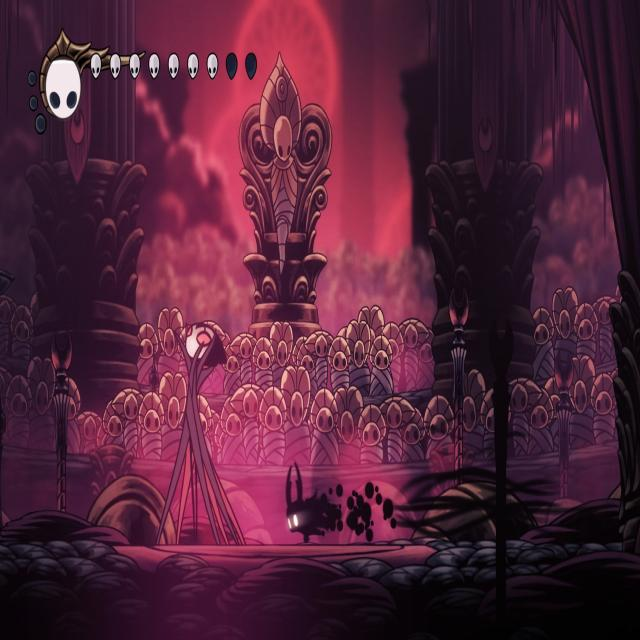Grimm: (155, 301, 248, 546)
Player: (282, 460, 332, 548)
